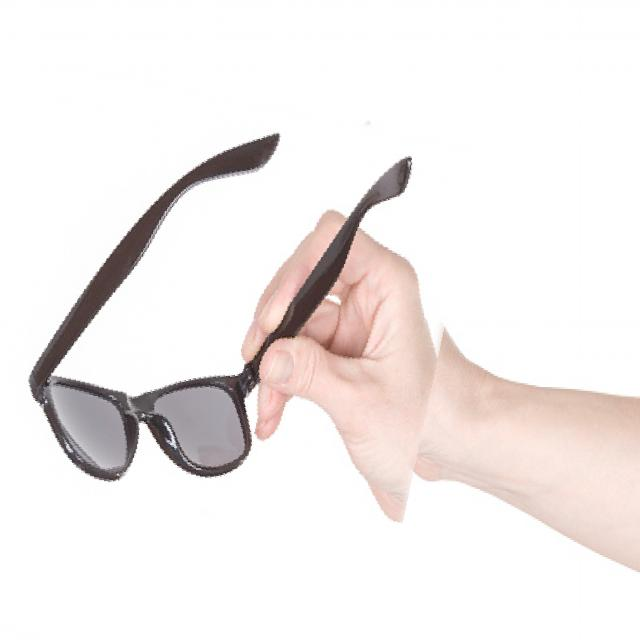glasses: (0, 73, 460, 591)
